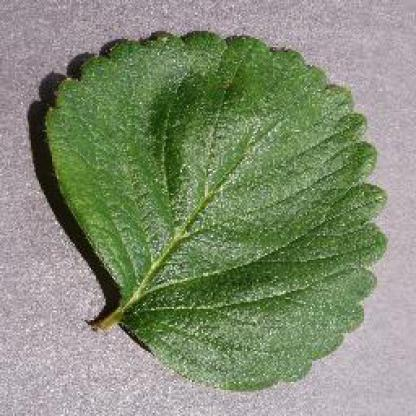healthy: (23, 16, 395, 398)
